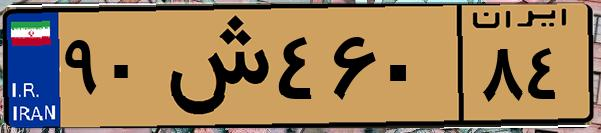0: (385, 28, 445, 110), (110, 28, 158, 98)
4: (270, 28, 330, 110), (525, 38, 570, 115)
6: (330, 28, 385, 110)
8: (475, 38, 525, 113)
9: (57, 26, 110, 100)
ش: (158, 12, 270, 120)
